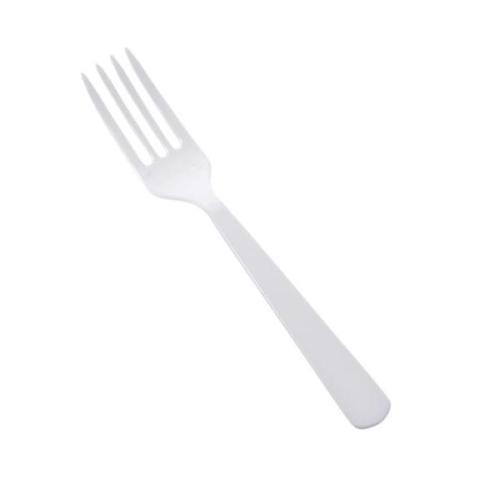Fork: (80, 46, 391, 430)
